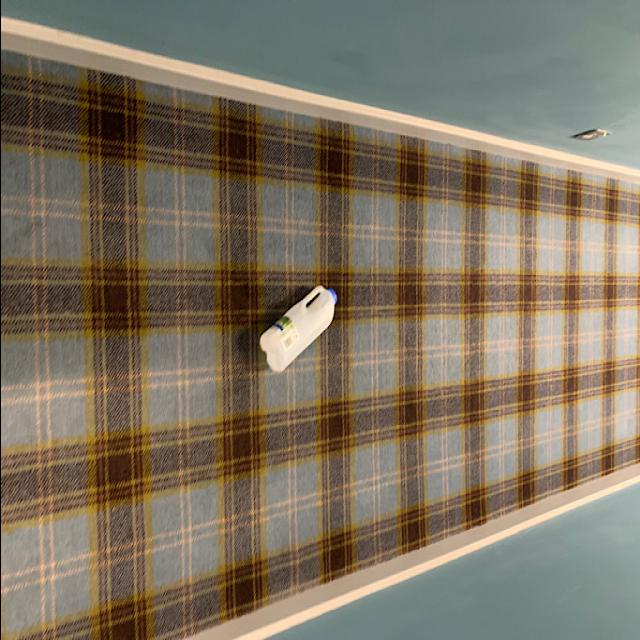HDPEM: (256, 284, 336, 378)
